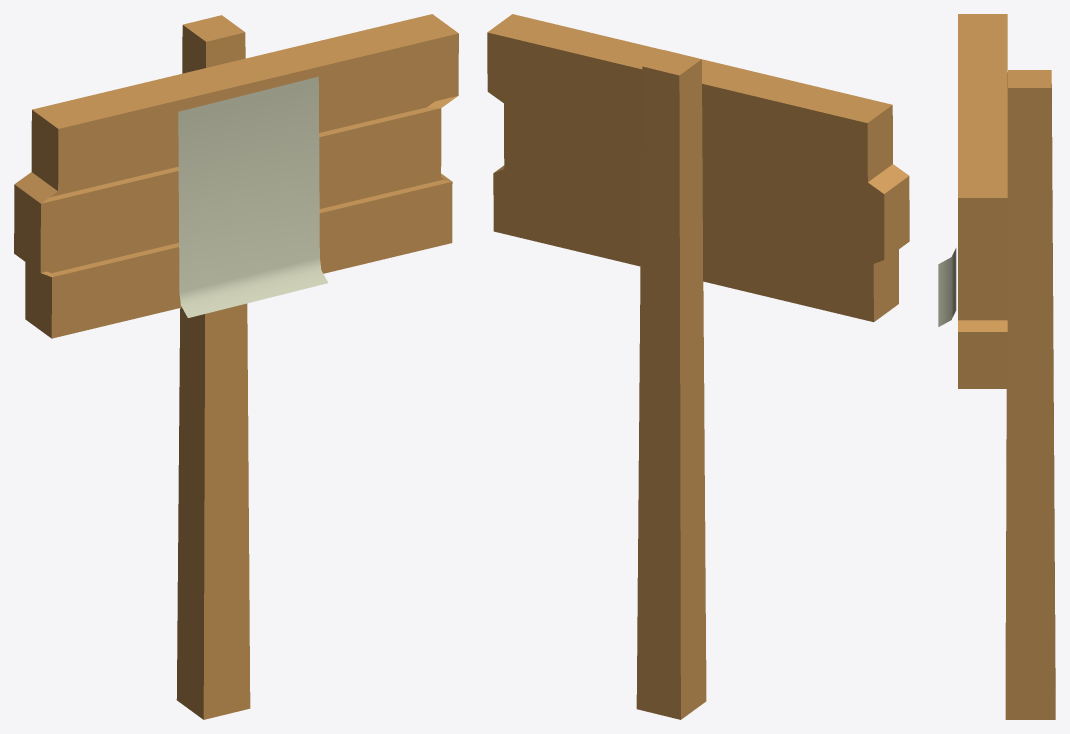
File: MSH_Sign.fbx
3 views of the same model, side by side, from view 1: azimuth 30°, elevation 25°; view 2: azimuth 150°, elevation 25°; view 3: azimuth 270°, elevation 25° (orthographic). The views are drawn at different scales.
Visible parts, largest first — view 1: MSH_Sign, MSH_Sign_Paper; view 2: MSH_Sign; view 3: MSH_Sign, MSH_Sign_Paper.
Part boxes in pixels (x1,y1,x2,y2): MSH_Sign: (14, 14, 458, 719); MSH_Sign_Paper: (178, 76, 327, 317); MSH_Sign: (487, 14, 909, 719); MSH_Sign: (958, 14, 1055, 719); MSH_Sign_Paper: (938, 248, 956, 326).
Bounding box in the file's own units: 73.09 × 113 × 19.05.
